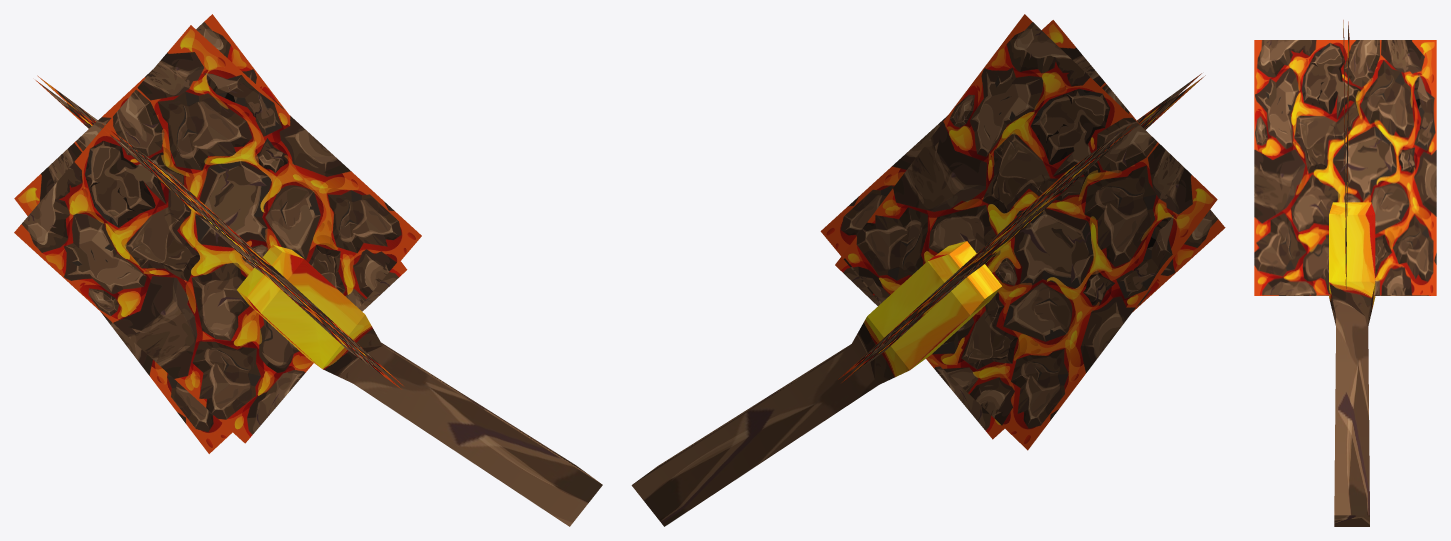
Rendered from torch.fbx.
3 views of the same model, side by side, from view 1: azimuth 30°, elevation 25°; view 2: azimuth 150°, elevation 25°; view 3: azimuth 270°, elevation 25° (orthographic). The views are drawn at different scales.
Parts seen in each view (by area): view 1: torch; view 2: torch; view 3: torch.
Part boxes in pixels (bbox=[...]): torch: bbox=[14, 14, 602, 526]; torch: bbox=[631, 14, 1225, 526]; torch: bbox=[1254, 20, 1436, 526].
Bounding box in the file's own units: 49.24 × 47.81 × 20.06.
Materials: 2 (2 with a texture image).
